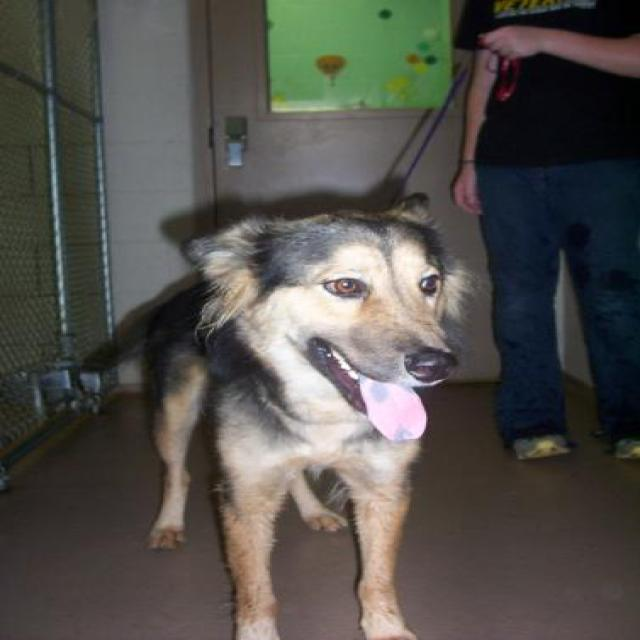Dogs: (78, 191, 477, 638)
